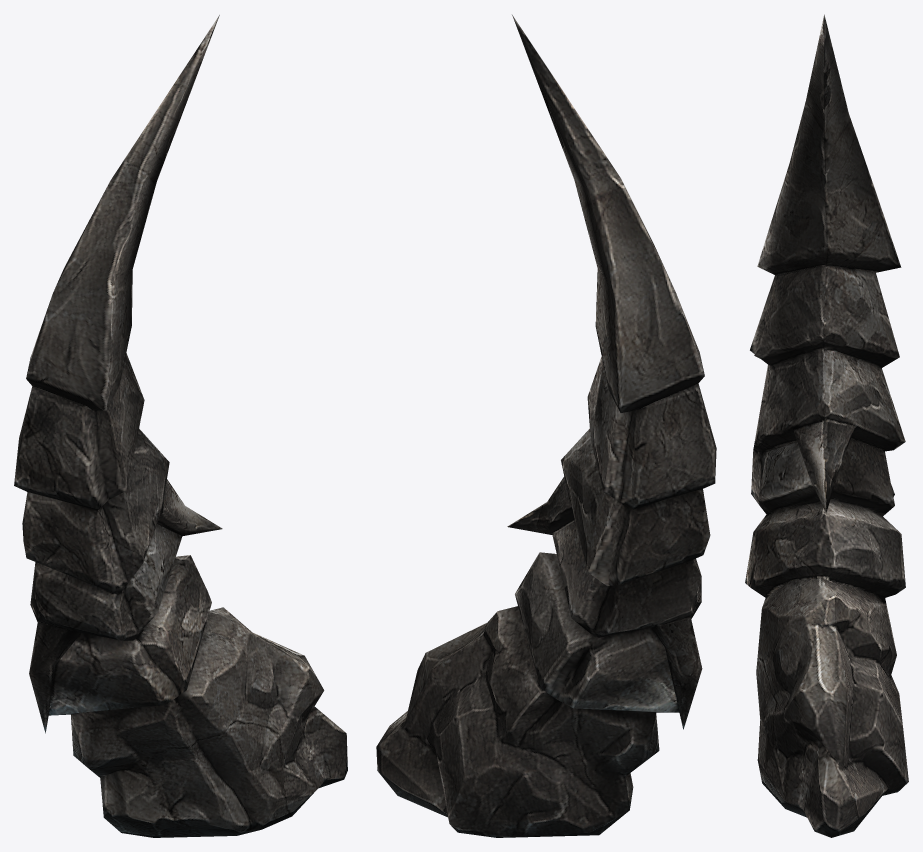
The model's file is x25longjiao01.FBX.
3 renders of one model, left to right at view 1: azimuth 30°, elevation 25°; view 2: azimuth 150°, elevation 25°; view 3: azimuth 270°, elevation 25°, orthographic. The views are drawn at different scales.
Parts seen in each view (by area): view 1: x25longjiao01; view 2: x25longjiao01; view 3: x25longjiao01.
Boxes of the visible parts, left/top/right/bottom form: x25longjiao01: left=14, top=15, right=347, bottom=837; x25longjiao01: left=376, top=15, right=716, bottom=837; x25longjiao01: left=745, top=14, right=908, bottom=837.
Bounding box in the file's own units: 2474 × 5614 × 1082.
